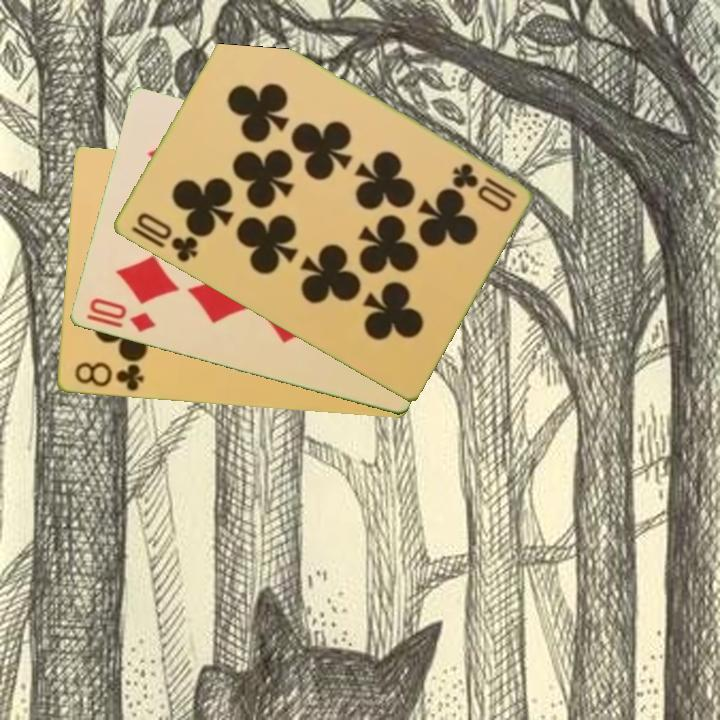10c: (447, 159, 520, 216), (132, 209, 201, 266)
10d: (85, 294, 158, 335)
8c: (71, 359, 146, 395)
